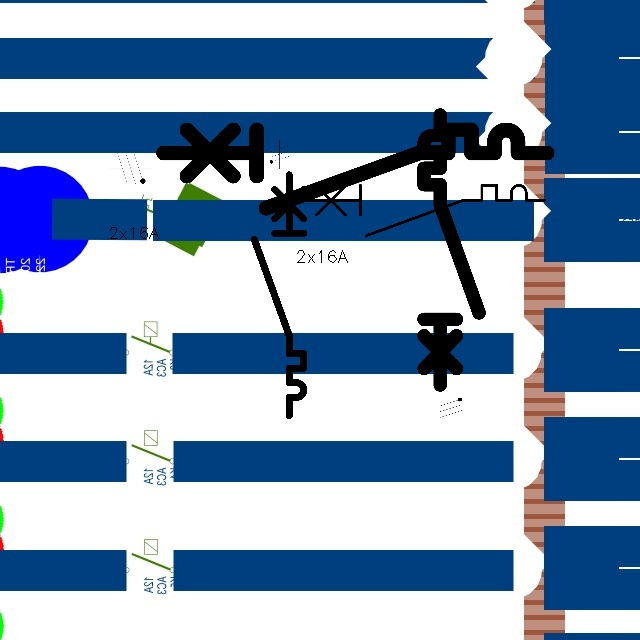interruptor_termomagnetico: (153, 120, 556, 218), (417, 108, 486, 392), (295, 179, 551, 241), (248, 168, 310, 422)
